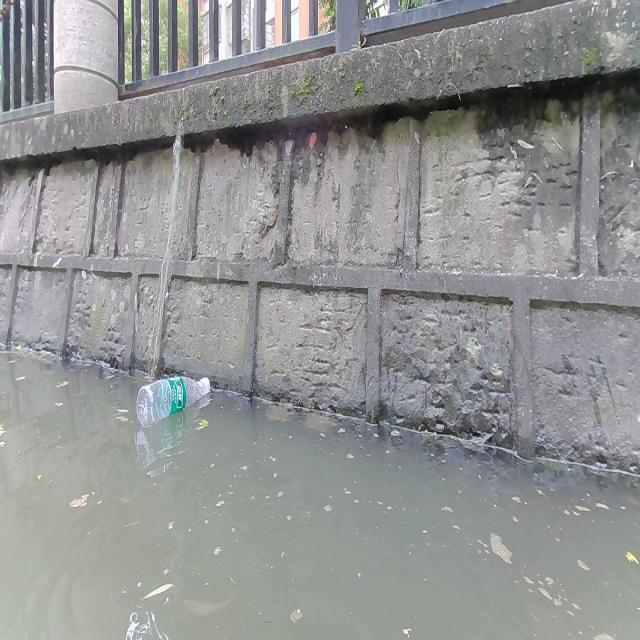bottle: (136, 374, 210, 425)
